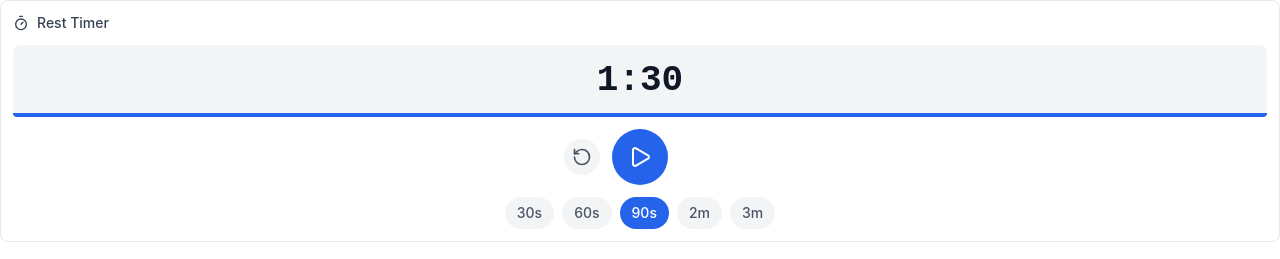
Scenario: RestTimer › should start timer when play button is clicked
The image size is (1280, 259).
Click the button named "Start timer": (640, 157) left=612, top=129, right=668, bottom=185
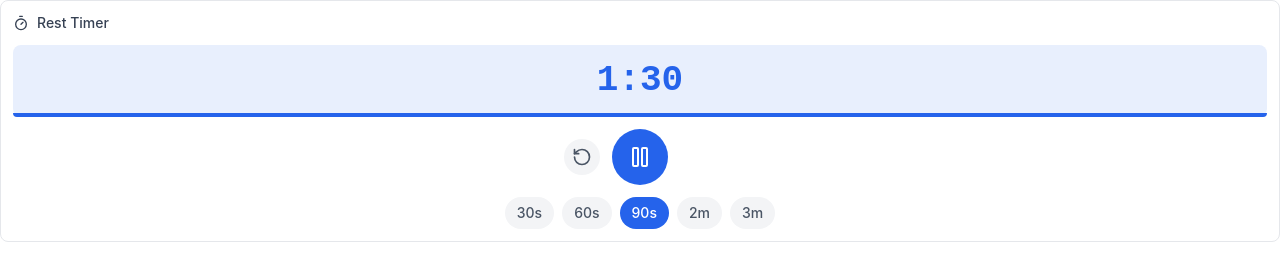
Expected: the button named "Pause timer" is shown, left=612, top=129, right=668, bottom=185
